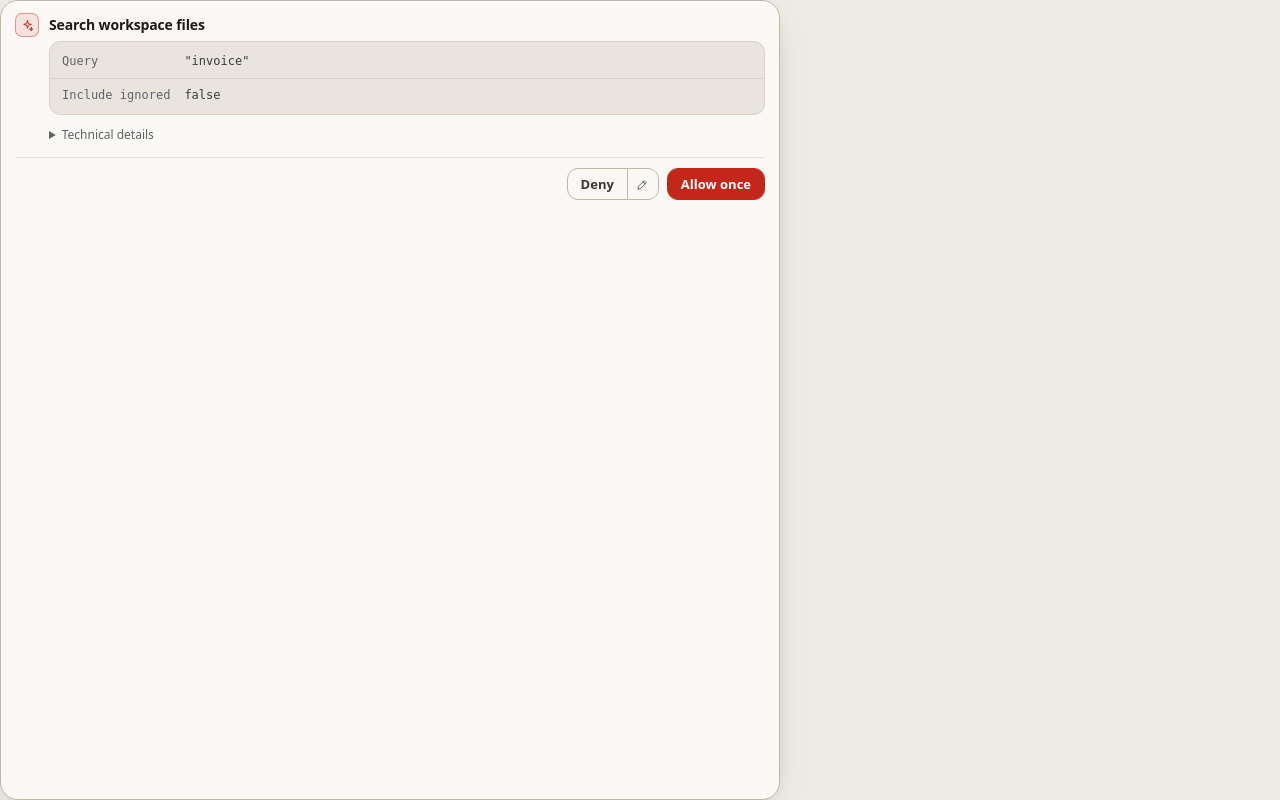
Test case: the card that asks › keeps the tool's own name under Technical details when it is not the action's
The image size is (1280, 800).
Check: the text "Include ignored" is shown, box [62,86,170,104]
Check: the text "search_files" is not shown
Click the heading "Technical details" at x=101, y=135, box [49,122,154,147]
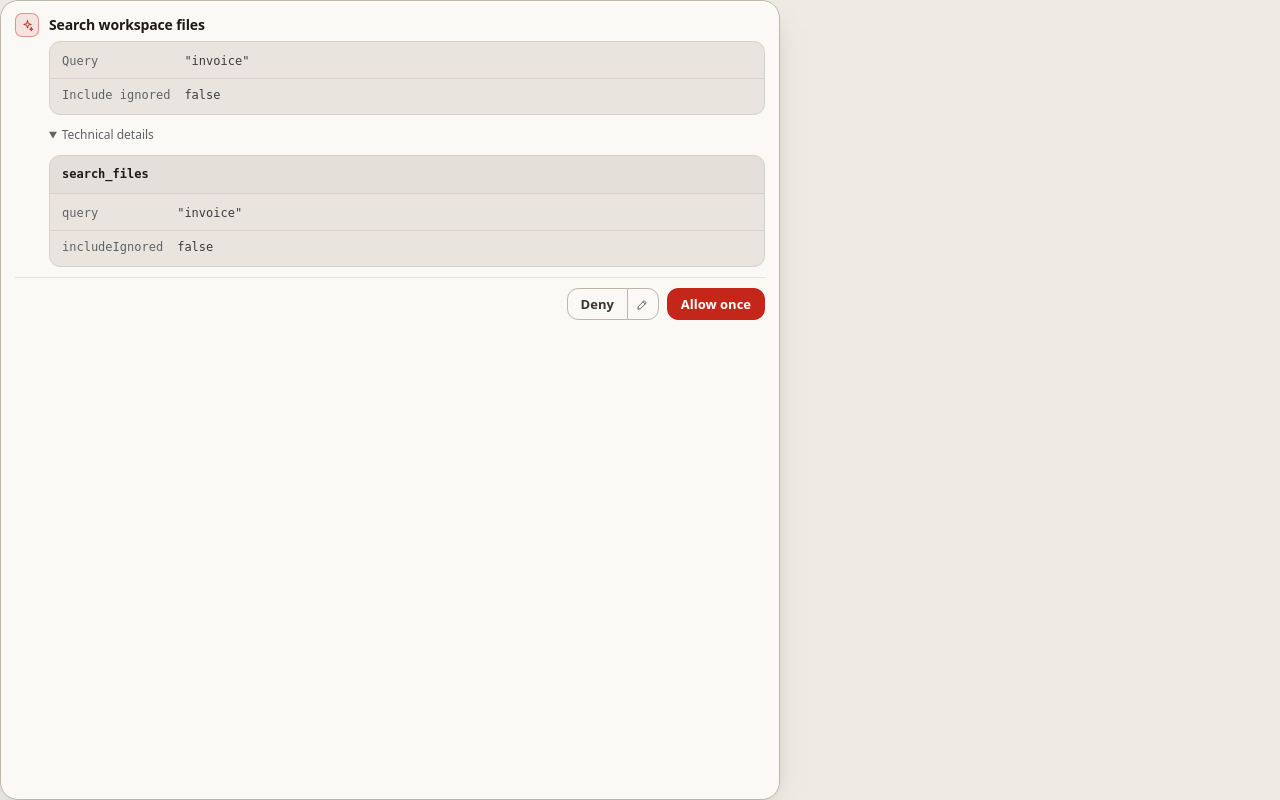
Check: the text "search_files" is shown, box [62,166,149,183]
Check: the text "includeIgnored" is shown, box [62,238,163,256]
